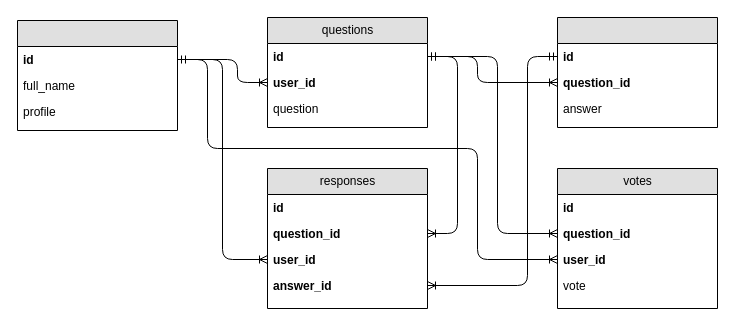
The diagram is 735 pixels wide and 326 high, and some of its shapes have lost their labels. The box of each missing label's shape, as (x1, y1, x2, y2) in pixels:
answers: (556, 16, 718, 128)
users: (16, 20, 178, 130)
